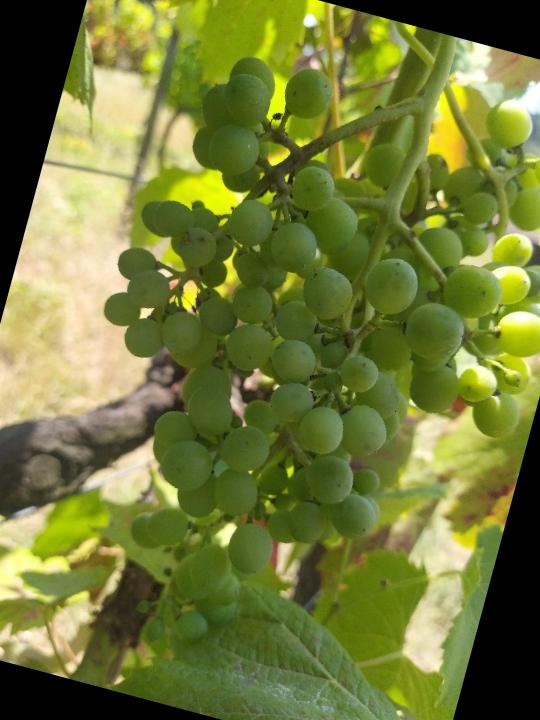grape: (17, 6, 540, 720)
